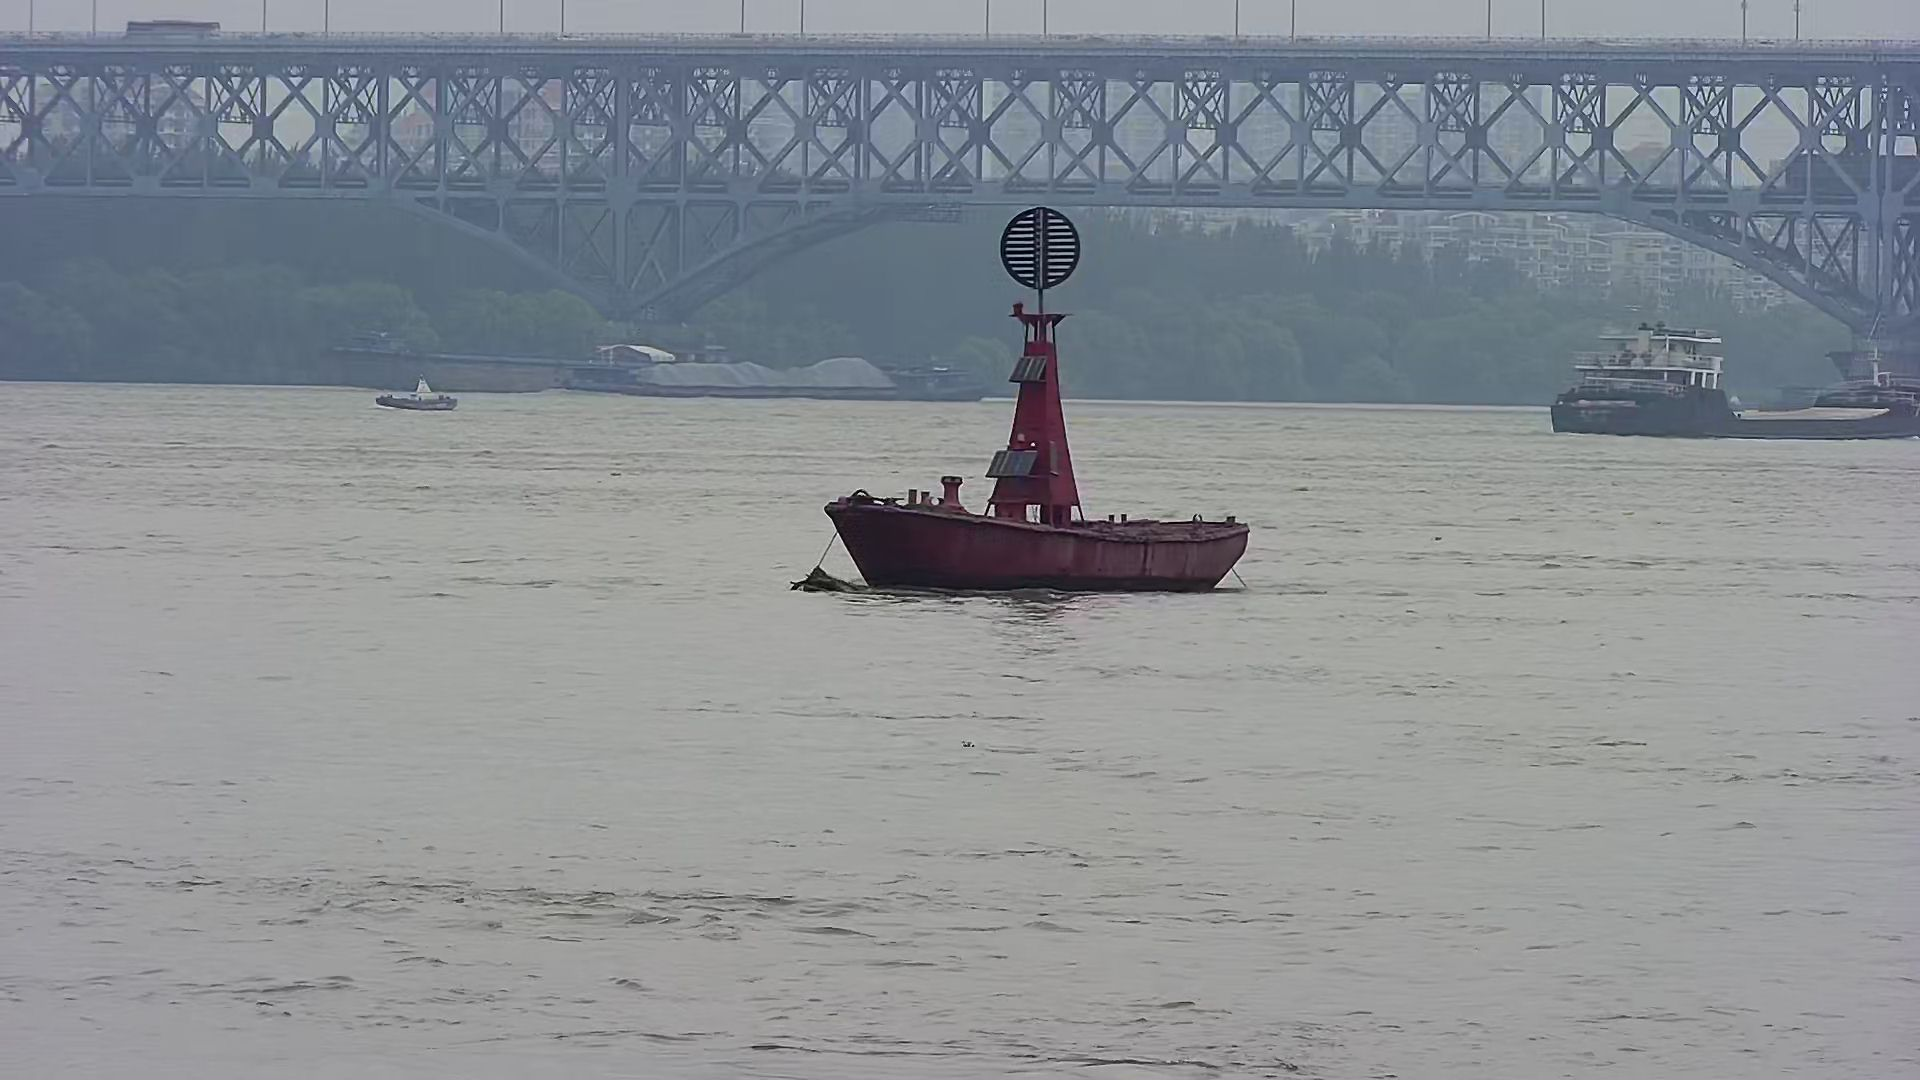boat: (781, 191, 1284, 601), (360, 356, 469, 419)
bridge: (1, 22, 1919, 411)
ship: (1540, 310, 1920, 442), (568, 351, 1004, 407)
